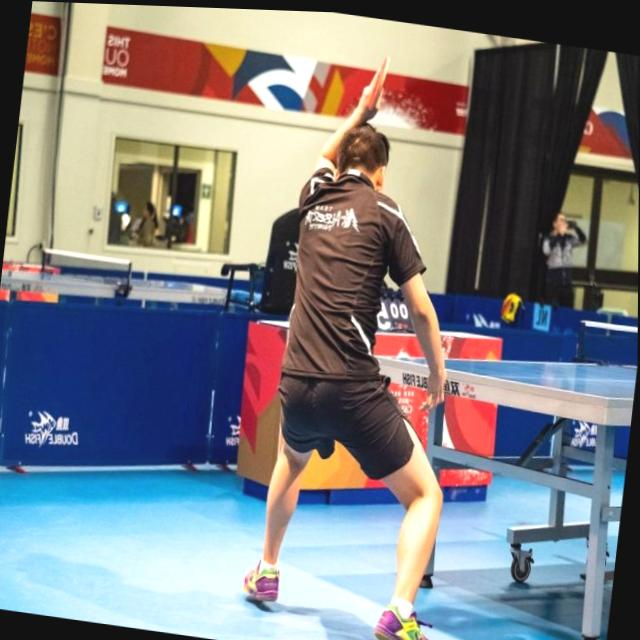TT Net: (574, 318, 638, 373)
TT Racket: (359, 52, 395, 113)
TT Table: (375, 360, 637, 399)
